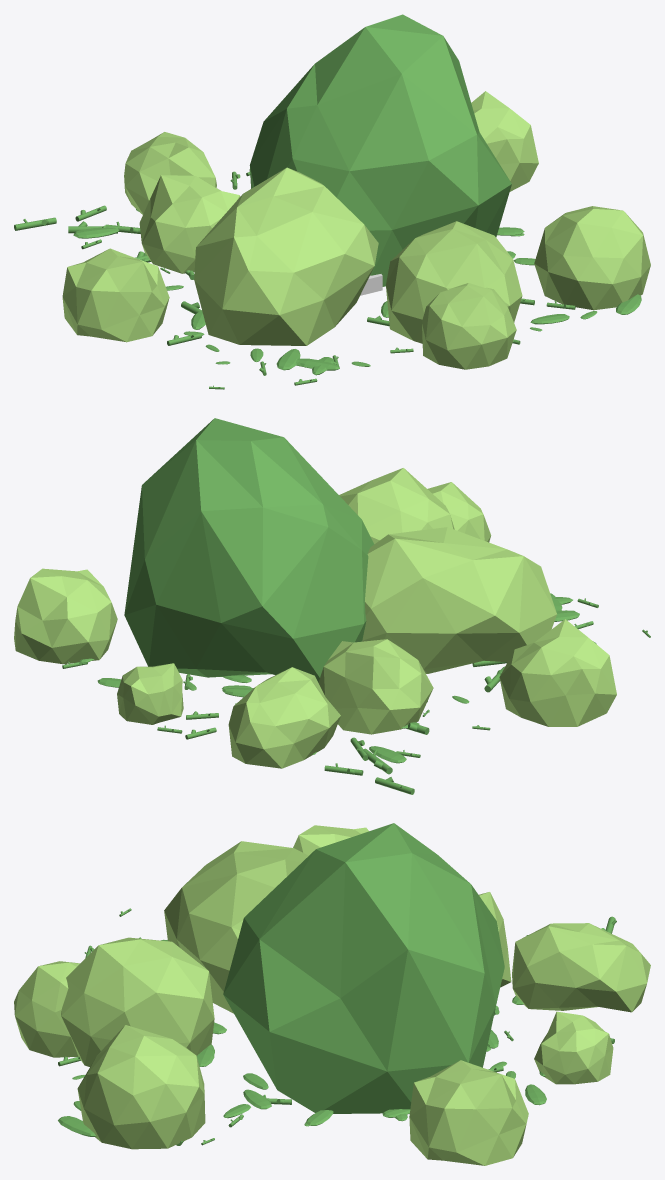
The model's file is bushgroup.glb.
3 views of the same model, one above another, from view 1: azimuth 30°, elevation 25°; view 2: azimuth 150°, elevation 25°; view 3: azimuth 270°, elevation 25° (orthographic). The views are drawn at different scales.
Visible parts, largest first — view 1: Icosphere.008, Icosphere.009, Icosphere.014, Icosphere.006, Icosphere.011, Icosphere.019, Icosphere.013, Cylinder.001, Icosphere.012, Icosphere.017; view 2: Icosphere.008, Icosphere.009, Icosphere.011, Icosphere.013, Icosphere.012, Icosphere.017, Icosphere.006, Cylinder.001, Icosphere.015, Icosphere.019; view 3: Icosphere.008, Icosphere.006, Icosphere.014, Icosphere.012, Icosphere.009, Icosphere.017, Icosphere.015, Icosphere.019, Cylinder.001, Icosphere.011, Icosphere.013.
Boxes of the visible parts, bbox=[...] form: Icosphere.008: bbox=[249, 14, 511, 286]; Icosphere.009: bbox=[194, 167, 378, 345]; Icosphere.014: bbox=[534, 206, 650, 310]; Icosphere.006: bbox=[386, 221, 522, 343]; Icosphere.011: bbox=[62, 248, 169, 342]; Icosphere.019: bbox=[422, 283, 516, 369]; Icosphere.013: bbox=[139, 175, 240, 273]; Cylinder.001: bbox=[14, 169, 641, 389]; Icosphere.012: bbox=[124, 132, 216, 214]; Icosphere.017: bbox=[471, 91, 538, 191]; Icosphere.008: bbox=[124, 418, 374, 682]; Icosphere.009: bbox=[362, 527, 556, 673]; Icosphere.011: bbox=[499, 619, 616, 726]; Icosphere.013: bbox=[318, 639, 433, 734]; Icosphere.012: bbox=[228, 667, 340, 768]; Icosphere.017: bbox=[14, 568, 117, 664]; Icosphere.006: bbox=[339, 468, 454, 543]; Cylinder.001: bbox=[62, 593, 650, 794]; Icosphere.015: bbox=[117, 663, 183, 724]; Icosphere.019: bbox=[427, 482, 491, 542]; Icosphere.008: bbox=[223, 823, 504, 1113]; Icosphere.006: bbox=[61, 937, 214, 1066]; Icosphere.014: bbox=[77, 1025, 205, 1149]; Icosphere.012: bbox=[512, 923, 650, 1012]; Icosphere.009: bbox=[164, 841, 308, 1013]; Icosphere.017: bbox=[409, 1060, 528, 1165]; Icosphere.015: bbox=[534, 1011, 613, 1084]; Icosphere.019: bbox=[14, 961, 79, 1057]; Cylinder.001: bbox=[58, 908, 616, 1145]; Icosphere.011: bbox=[293, 825, 368, 855]; Icosphere.013: bbox=[479, 892, 511, 987].
Bounding box in the file's own units: 0.6164 × 0.2433 × 0.5822.
